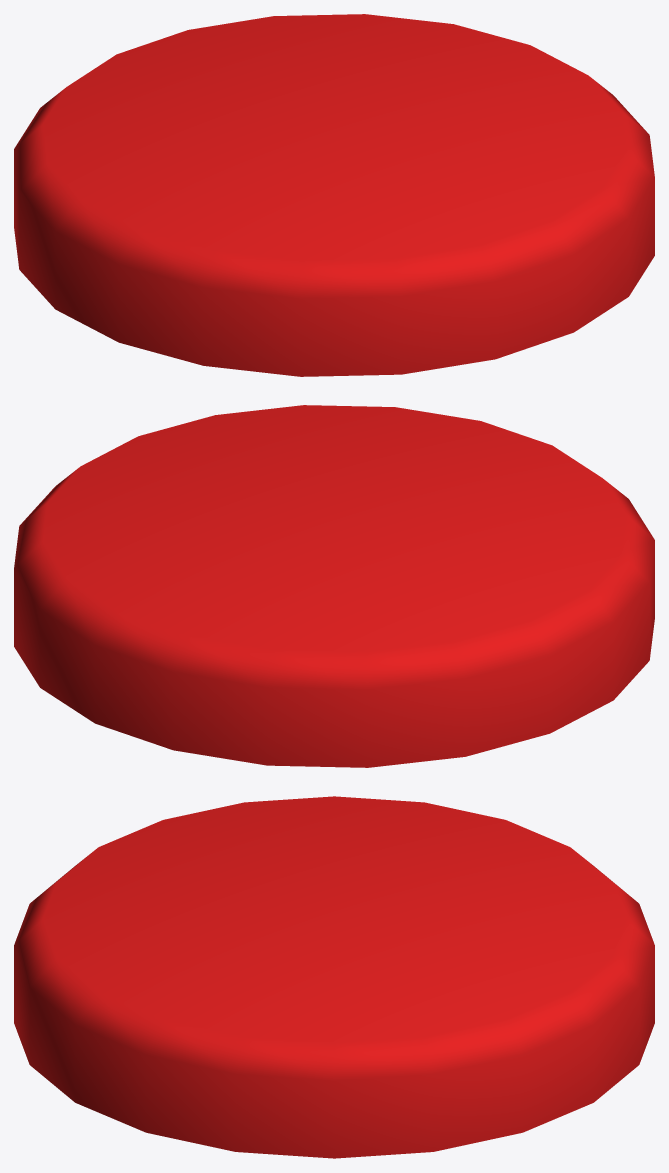
File: Nav_Marker.fbx
The picture shows the model from 3 angles, top to bottom: view 1: azimuth 30°, elevation 25°; view 2: azimuth 150°, elevation 25°; view 3: azimuth 270°, elevation 25°; orthographic projection.
Visible parts, largest first — view 1: pCylinder1; view 2: pCylinder1; view 3: pCylinder1.
Boxes of the visible parts, x1,y1,x2,y2 form: pCylinder1: (14, 14, 654, 376); pCylinder1: (14, 405, 654, 767); pCylinder1: (14, 796, 654, 1158).
Size of the model in its own units: 66.41 by 11.84 by 66.41.
Materials: 1 (1 with a texture image).
